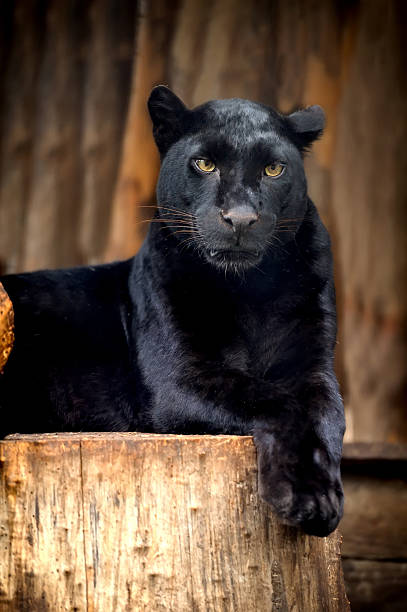panther: (134, 66, 344, 300)
